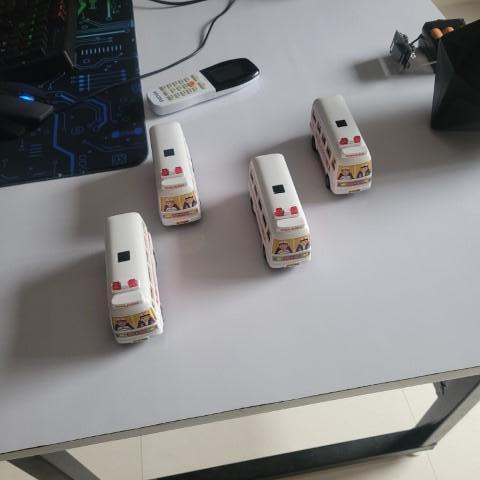ambulance: (99, 207, 168, 350), (241, 145, 316, 274), (308, 89, 380, 199), (142, 116, 210, 231)
